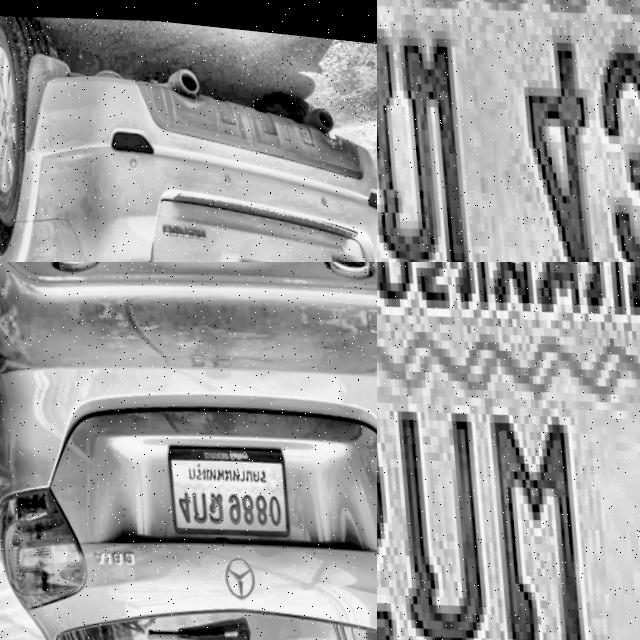license-plate: (377, 262, 640, 640), (377, 0, 640, 262), (164, 427, 292, 543), (229, 241, 319, 262)
